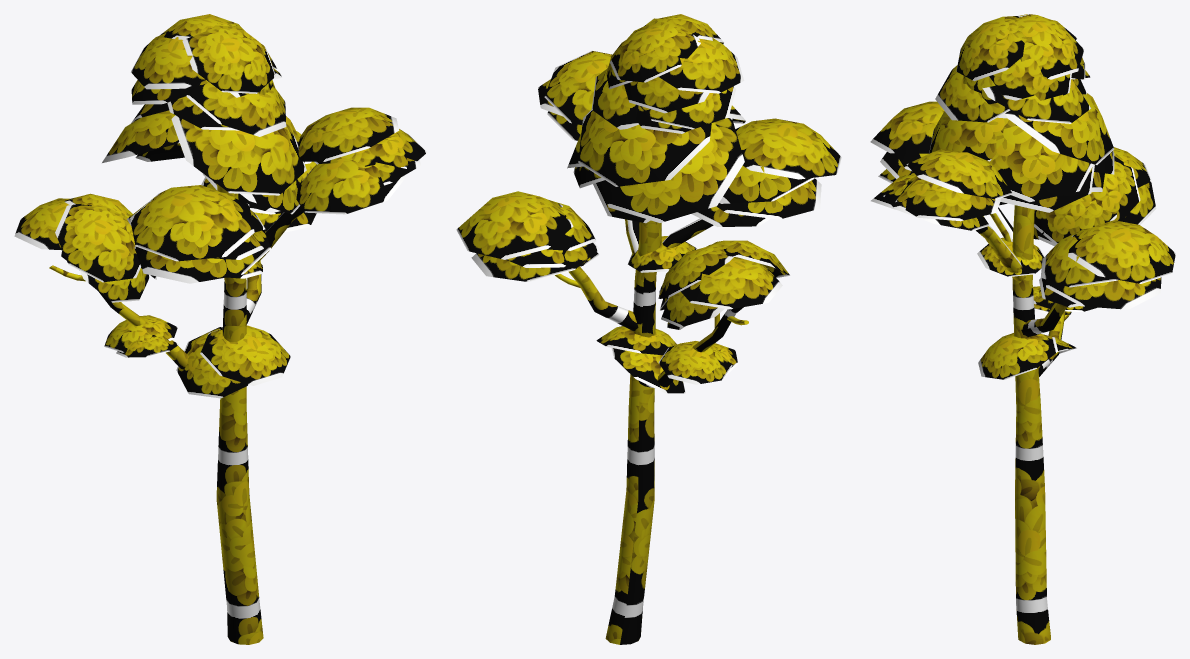
The model's file is birch_10.glb.
3 renders of one model, left to right at view 1: azimuth 30°, elevation 25°; view 2: azimuth 150°, elevation 25°; view 3: azimuth 270°, elevation 25°, orthographic. The views are drawn at different scales.
Visible parts, largest first — view 1: Birch_10_Cylinder.022; view 2: Birch_10_Cylinder.022; view 3: Birch_10_Cylinder.022.
Boxes of the visible parts, <box> form: Birch_10_Cylinder.022: <box>14,14,427,644</box>; Birch_10_Cylinder.022: <box>456,14,841,644</box>; Birch_10_Cylinder.022: <box>870,14,1175,644</box>.
Size of the model in its own units: 5.36 by 10.23 by 4.74.
2 materials, 2 textured.
